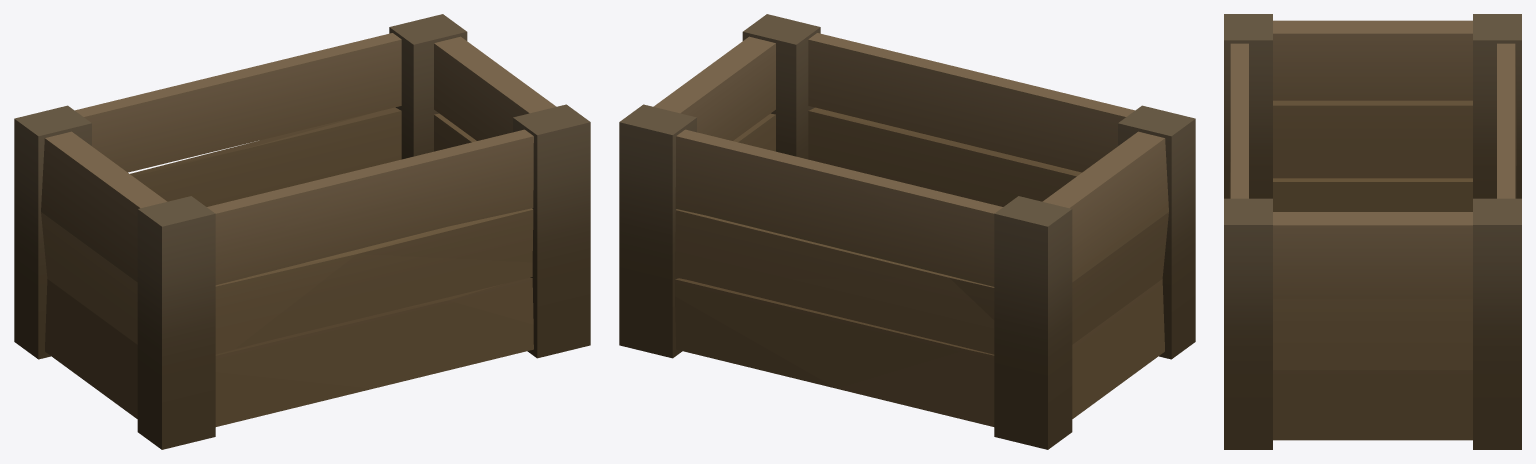
The model's file is WoodenCrate_S.gltf.
The picture shows the model from 3 angles, left to right: view 1: azimuth 30°, elevation 25°; view 2: azimuth 150°, elevation 25°; view 3: azimuth 270°, elevation 25°; orthographic projection.
Visible parts, largest first — view 1: WoodenCrate_S; view 2: WoodenCrate_S; view 3: WoodenCrate_S.
Part boxes in pixels (x1,y1,x2,y2): WoodenCrate_S: (14, 14, 590, 449); WoodenCrate_S: (619, 14, 1195, 449); WoodenCrate_S: (1224, 14, 1521, 449).
Size of the model in its own units: 1 by 0.5 by 0.6.
Materials: 1 (1 with a texture image).
